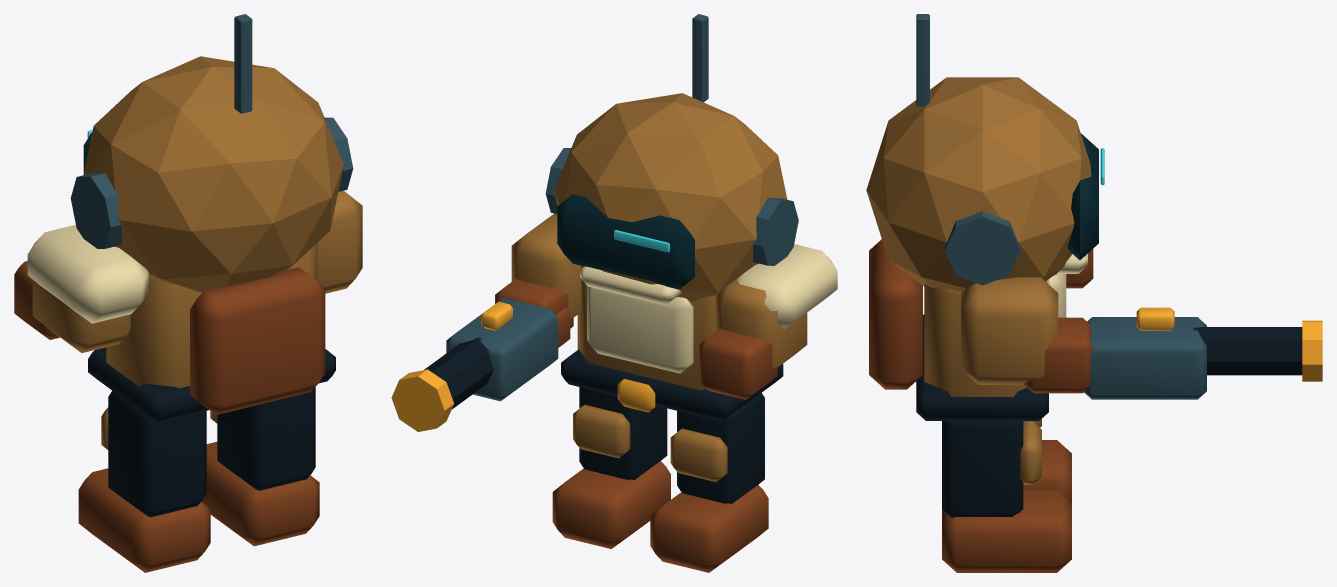
The model's file is sentinel.glb.
The picture shows the model from 3 angles, left to right: view 1: azimuth 30°, elevation 25°; view 2: azimuth 150°, elevation 25°; view 3: azimuth 270°, elevation 25°; orthographic projection. The views are drawn at different scales.
Visible parts, largest first — view 1: Helmet, Pack, Trousers, ShoulderArmor, Trousers.001, Boot, Torso, Boot.001, Belt, Sleeve.001, Sleeve, Ear (+3 smaller); view 2: Helmet, Face, Boot, Chest plate, Boot.001, Receiver, Trousers, ShoulderArmor, Belt, Glove, Trousers.001, Sleeve (+14 smaller); view 3: Helmet, Sleeve.001, Receiver, Boot.001, Trousers.001, Pack, Barrel, Torso, Ear.001, Belt, Glove.001, Face (+5 smaller).
Part boxes in pixels (x1,y1,x2,y2): Helmet: [83, 56, 343, 292]; Pack: [190, 267, 325, 414]; Trousers: [108, 390, 206, 517]; ShoulderArmor: [27, 224, 148, 323]; Trousers.001: [217, 387, 315, 490]; Boot: [78, 468, 210, 572]; Torso: [106, 243, 317, 388]; Boot.001: [201, 441, 319, 546]; Belt: [88, 347, 335, 422]; Sleeve.001: [317, 190, 362, 293]; Sleeve: [32, 280, 130, 352]; Ear: [70, 173, 121, 248]; Helmet: [554, 93, 787, 301]; Face: [557, 194, 694, 289]; Boot: [650, 484, 768, 572]; Chest plate: [587, 286, 693, 373]; Boot.001: [552, 461, 670, 548]; Receiver: [446, 298, 558, 401]; Trousers: [677, 393, 764, 503]; ShoulderArmor: [736, 244, 837, 328]; Belt: [561, 349, 783, 421]; Glove: [699, 328, 777, 399]; Trousers.001: [579, 387, 667, 479]; Sleeve: [715, 279, 807, 368]; Helmet: [866, 77, 1091, 291]; Sleeve.001: [961, 277, 1058, 384]; Receiver: [1084, 317, 1206, 399]; Boot.001: [942, 490, 1071, 572]; Trousers.001: [942, 421, 1023, 517]; Pack: [869, 239, 922, 389]; Barrel: [1193, 327, 1302, 375]; Torso: [924, 283, 1026, 396]; Ear.001: [944, 211, 1020, 285]; Belt: [916, 314, 1048, 420]; Glove.001: [1023, 317, 1093, 393]; Face: [1067, 133, 1098, 260].
Bounding box in the file's own units: 1.25 × 2.12 × 1.69.
